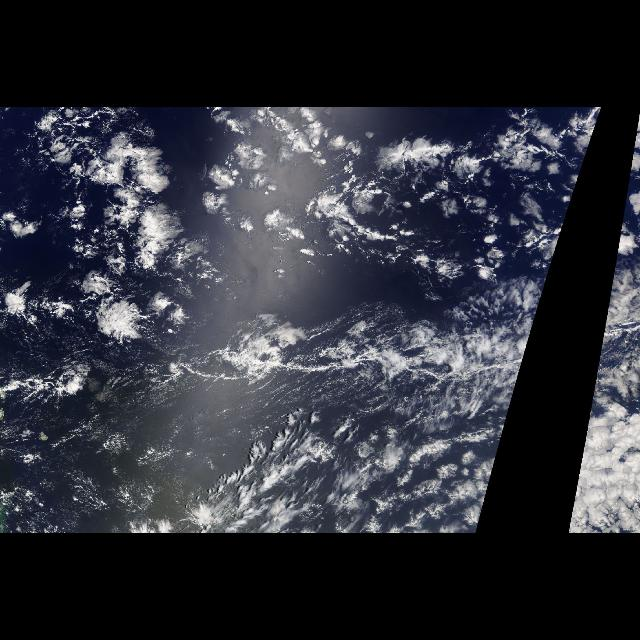Flower: (31, 120, 391, 342)
